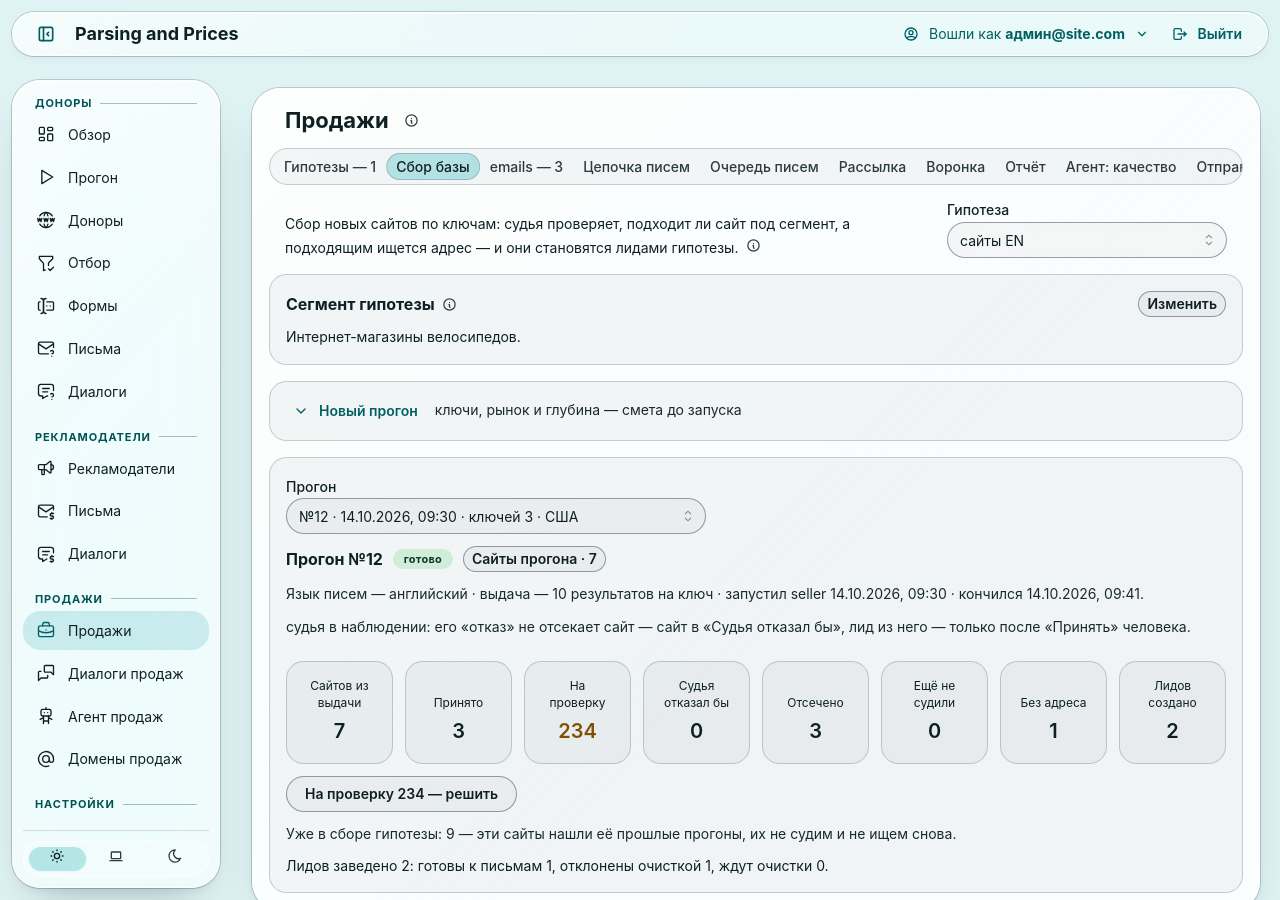
Test: сбор базы: ход прогона — экран › «На проверку» — всем числом в строке «решить», а список — страницами сервера в окне
This screenshot has width=1280, height=900.
Expected: the heading "Сегмент гипотезы" is shown, [286,292,435,316]
Click the link "На проверку 234 — решить" at (402, 794), box [286,776,517,812]
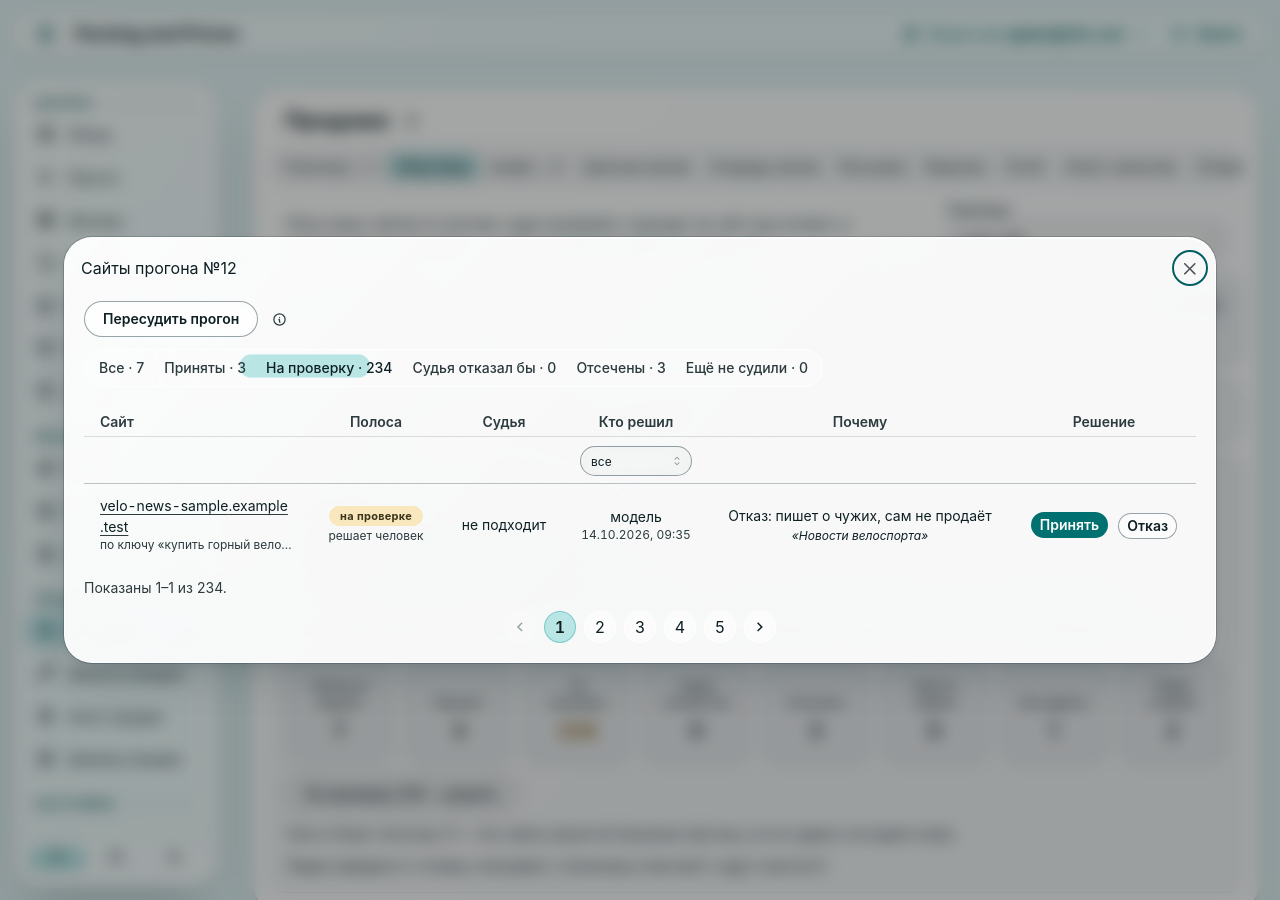
Result: the text "Показаны 1–1 из 234." is shown at [84,579,227,596]
